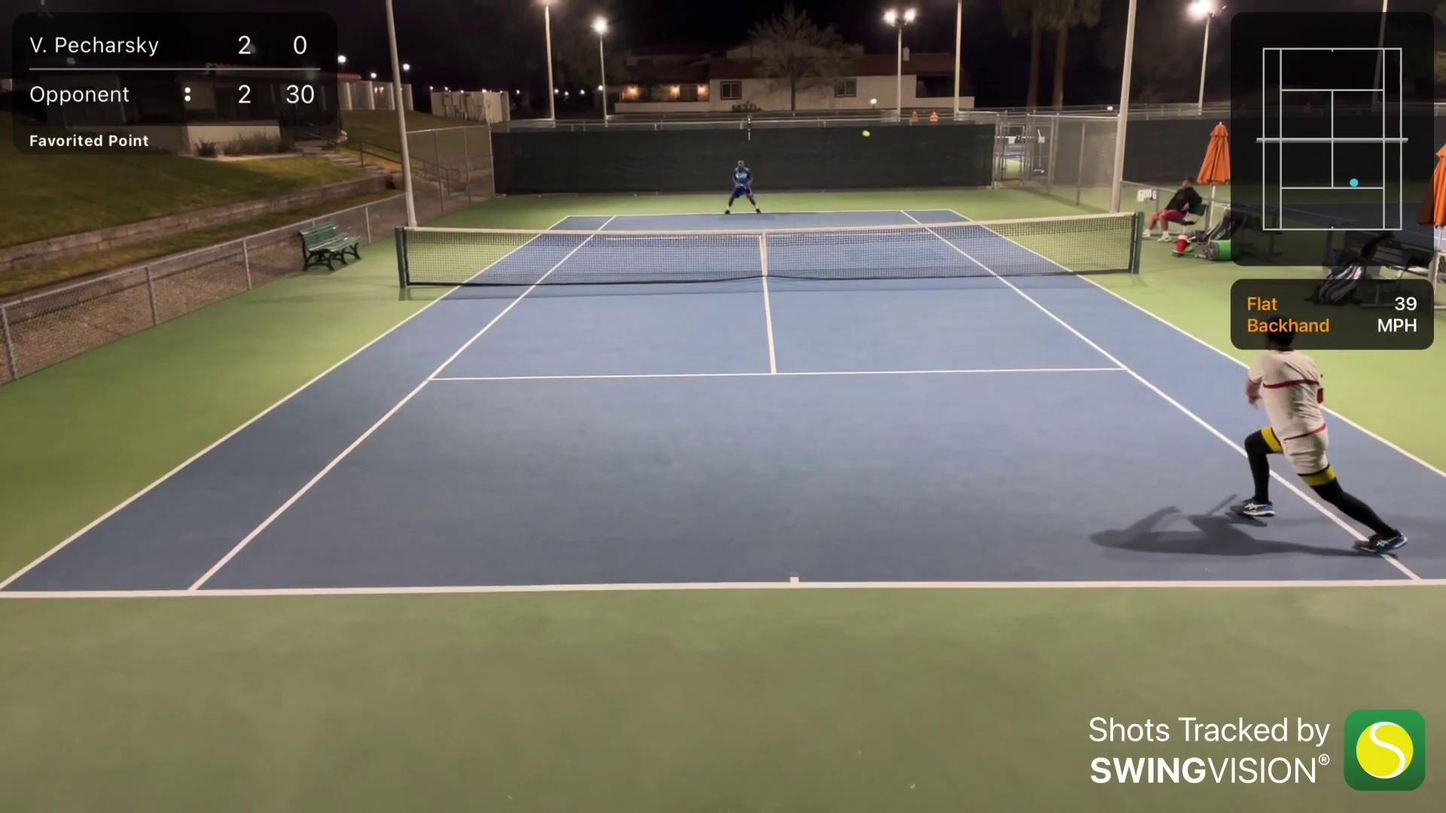ball: (862, 130, 868, 135)
